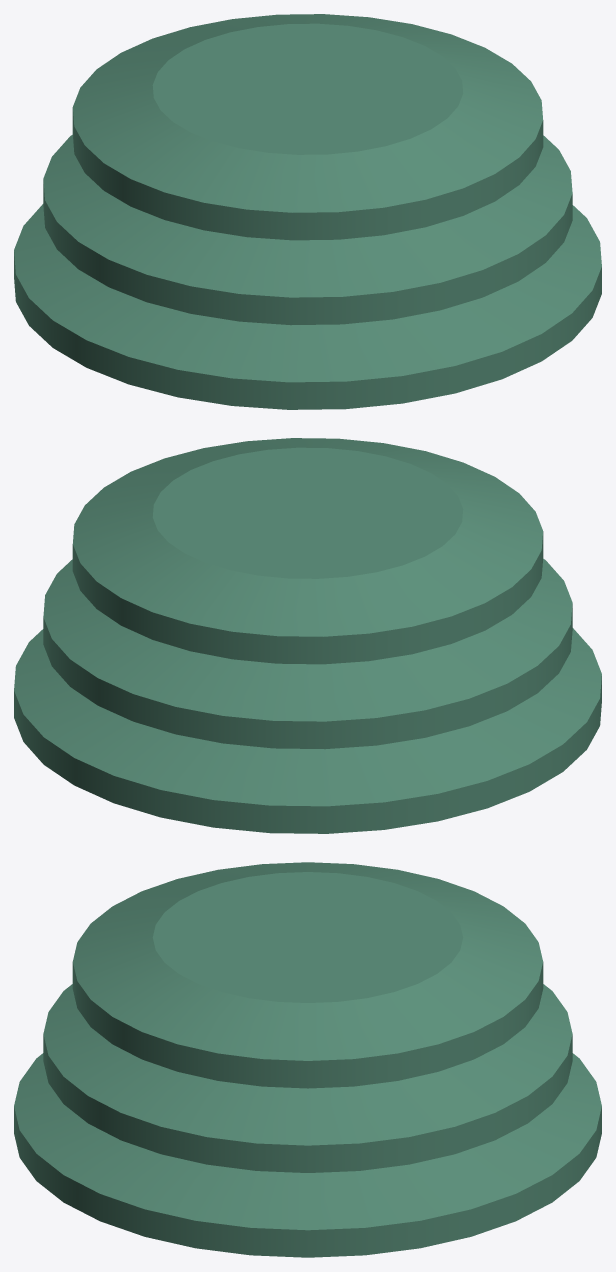
The picture shows the model from 3 angles, top to bottom: view 1: azimuth 30°, elevation 25°; view 2: azimuth 150°, elevation 25°; view 3: azimuth 270°, elevation 25°; orthographic projection.
Visible parts, largest first — view 1: Terraced oval hull.002, Terraced oval hull, Terraced oval hull.001; view 2: Terraced oval hull.002, Terraced oval hull, Terraced oval hull.001; view 3: Terraced oval hull.002, Terraced oval hull, Terraced oval hull.001.
Boxes of the visible parts, x1,y1,x2,y2 form: Terraced oval hull.002: (72, 14, 543, 240); Terraced oval hull: (14, 204, 601, 409); Terraced oval hull.001: (43, 135, 572, 325); Terraced oval hull.002: (72, 438, 543, 664); Terraced oval hull: (14, 628, 601, 833); Terraced oval hull.001: (43, 559, 572, 749); Terraced oval hull.002: (72, 862, 543, 1088); Terraced oval hull: (14, 1053, 601, 1257); Terraced oval hull.001: (43, 984, 572, 1172).
Size of the model in its own units: 3.1 by 1.24 by 3.1.
